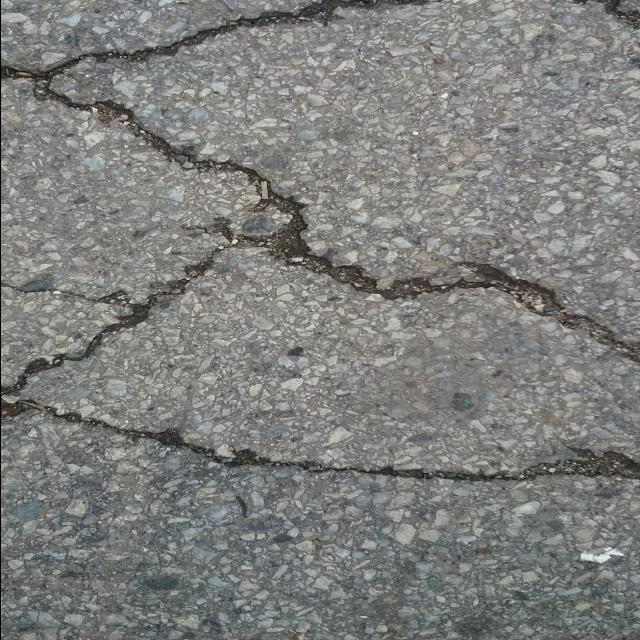Crack: (0, 0, 640, 485)
